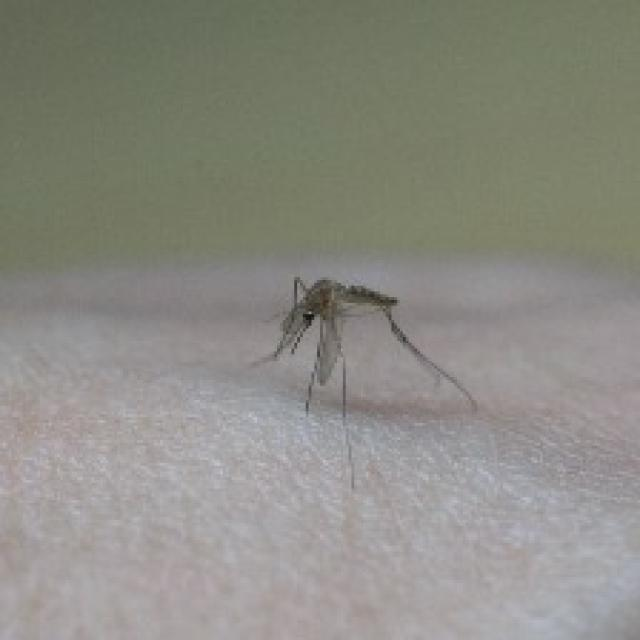culex: (249, 272, 477, 488)
